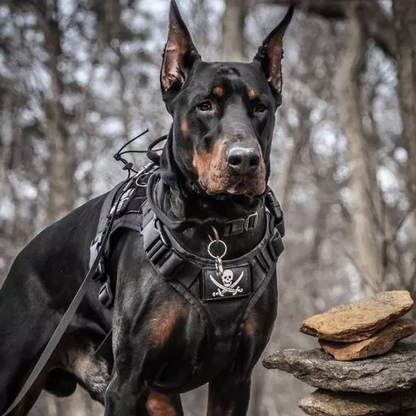doberman: (5, 12, 296, 404)
